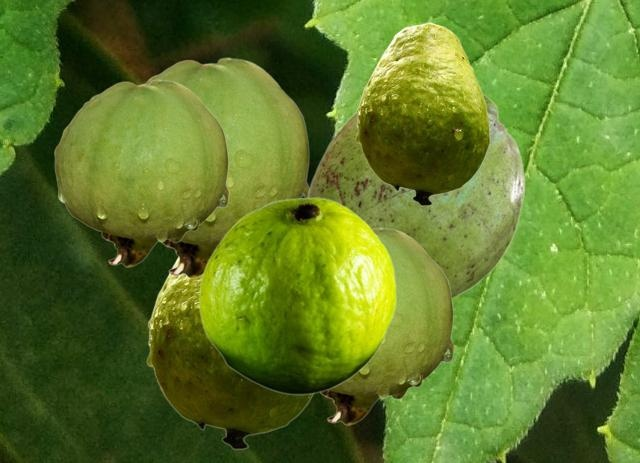guava: (307, 94, 524, 299), (198, 197, 395, 394), (142, 57, 309, 277), (54, 79, 228, 266), (146, 257, 313, 449), (320, 227, 453, 424), (355, 22, 489, 205)
